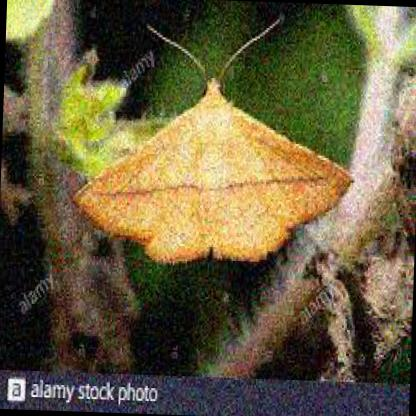Leaf Webber: (71, 77, 355, 275)
